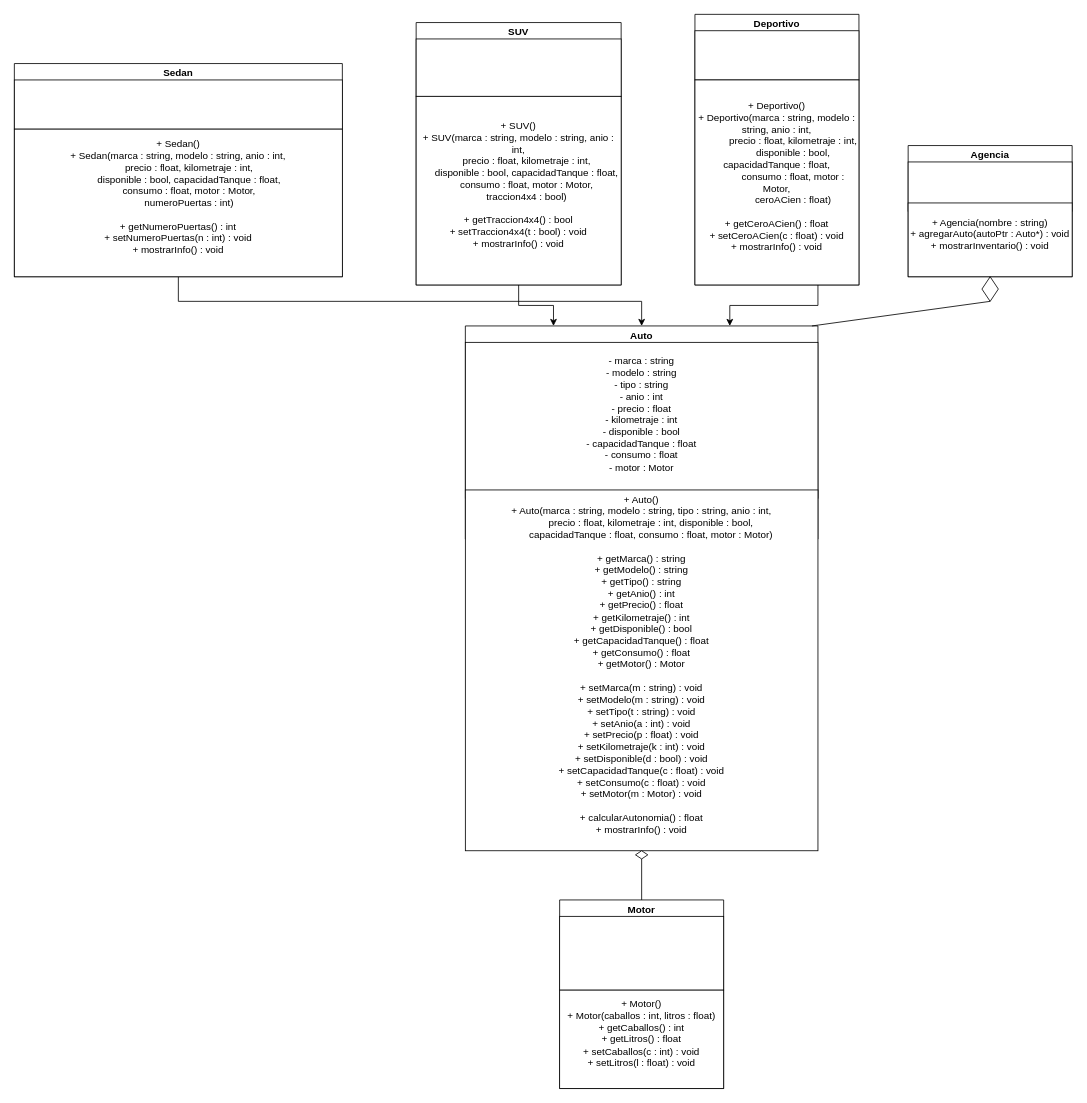
Image size: 1087x1103. Some labels were removed from this diagram. The centre of each missing label's shape, as x and y in pixels:
- caballos : int - litros : float: [641,953]
- ceroACien : float: [776,55]
- nombre : string - inventario : vector<Auto*>: [989,186]
- numeroPuertas : int: [178,104]
- traccion4x4 : bool: [518,67]
